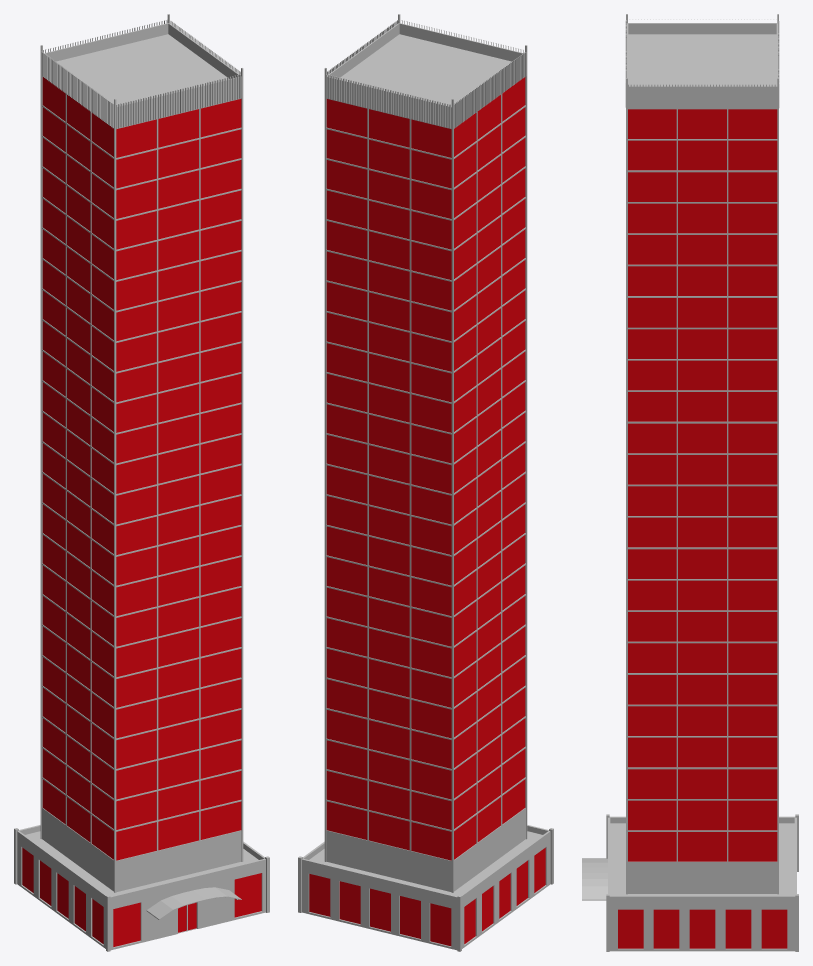
Rendered from SM_infrastructure_buildings_05.gltf.
3 views of the same model, side by side, from view 1: azimuth 30°, elevation 25°; view 2: azimuth 150°, elevation 25°; view 3: azimuth 270°, elevation 25° (orthographic). The views are drawn at different scales.
Parts seen in each view (by area): view 1: infrastructure_buildings_05; view 2: infrastructure_buildings_05; view 3: infrastructure_buildings_05.
Part boxes in pixels (<box>): infrastructure_buildings_05: <box>14,14,269,951</box>; infrastructure_buildings_05: <box>298,14,553,951</box>; infrastructure_buildings_05: <box>582,14,798,951</box>.
Size of the model in its own units: 16 by 79.29 by 18.
